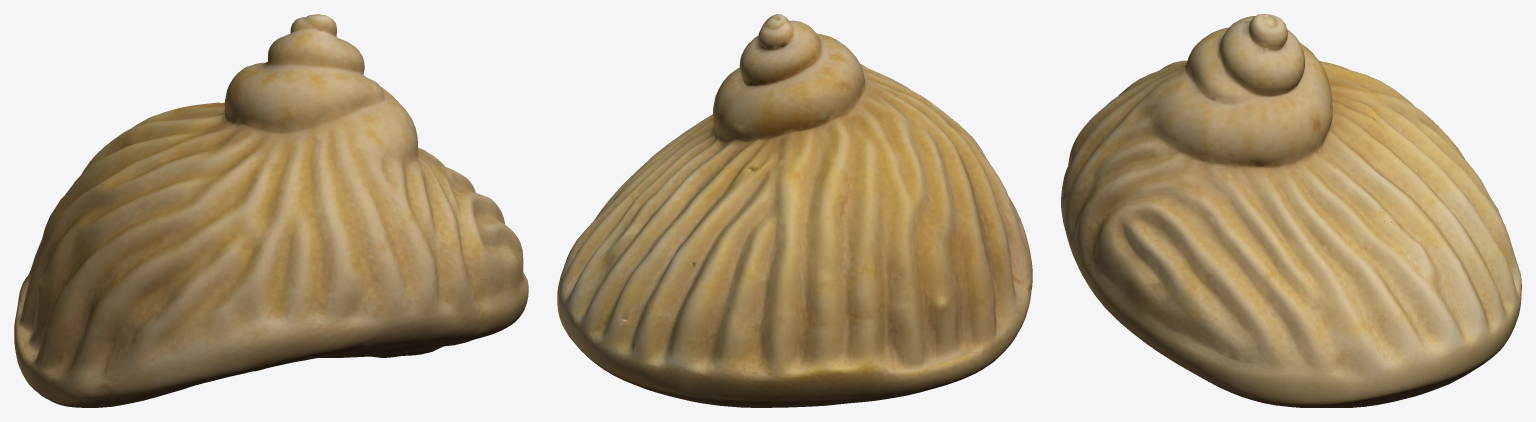
3 views of the same model, side by side, from view 1: azimuth 30°, elevation 25°; view 2: azimuth 150°, elevation 25°; view 3: azimuth 270°, elevation 25° (orthographic). The views are drawn at different scales.
Parts seen in each view (by area): view 1: world; view 2: world; view 3: world.
Part boxes in pixels (x1,y1,x2,y2): world: (14,14,528,407); world: (557,14,1032,407); world: (1061,14,1521,407).
Bounding box in the file's own units: 0.048 × 0.0353 × 0.045.
1 material, 1 textured.
